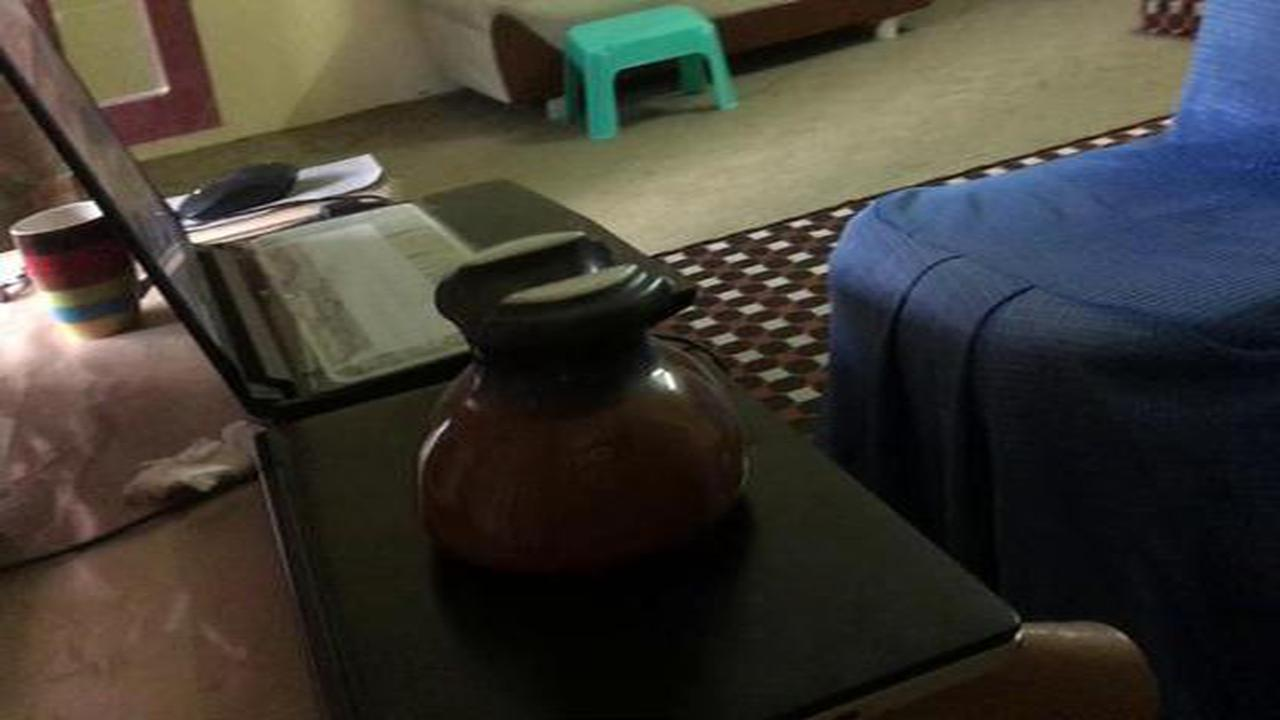insulator_pin: (391, 221, 767, 596)
